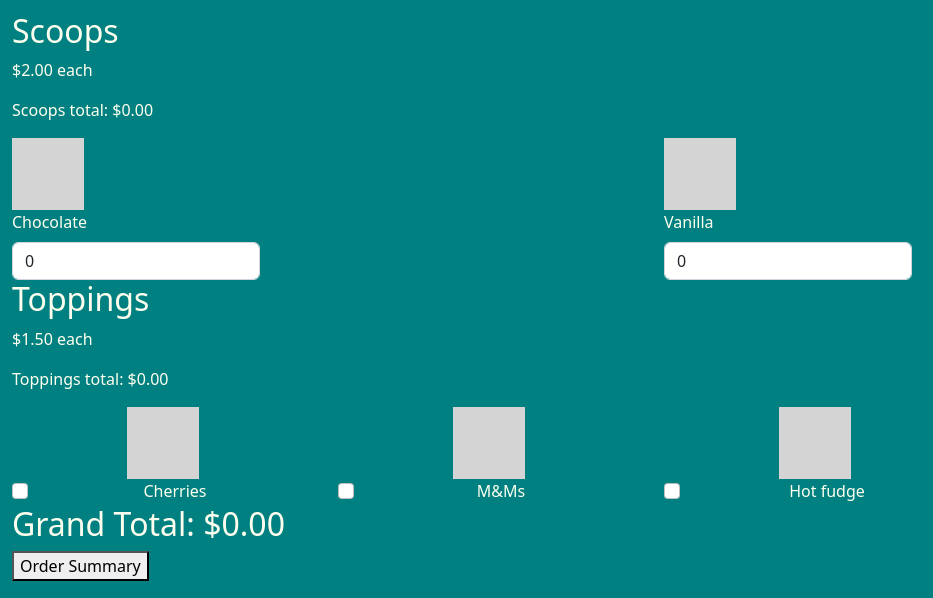
Test: grand total › grand total updates properly if topping is added first
Step 1. Click the checkbox labelled "M&Ms" → (346, 491), box x1=338 y1=483 x2=354 y2=499
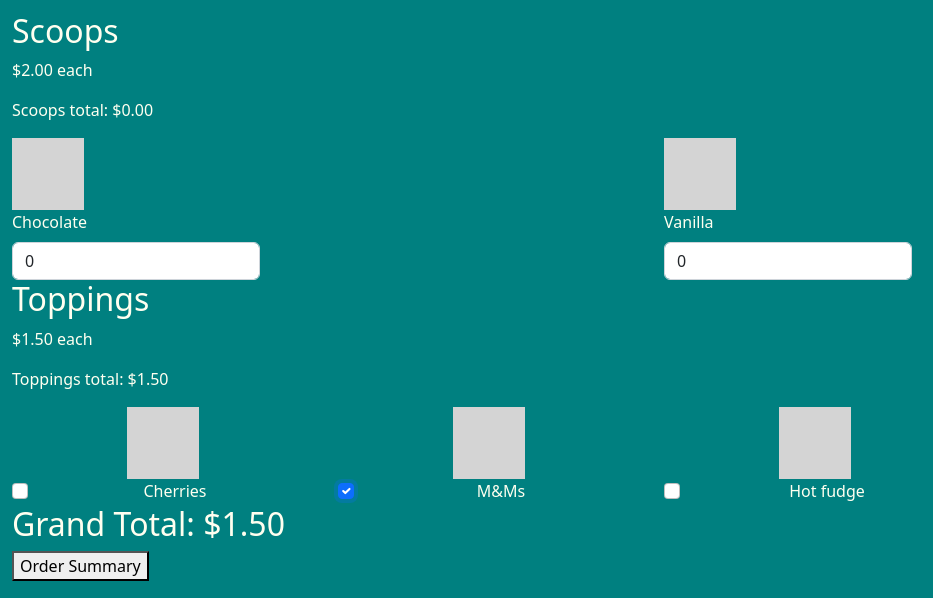
Result: the heading "Grand Total: $1.50" is shown at x1=12 y1=502 x2=285 y2=545
Step 2. Type "2" into the number field labelled "Vanilla" → (788, 261), box x1=664 y1=242 x2=912 y2=280
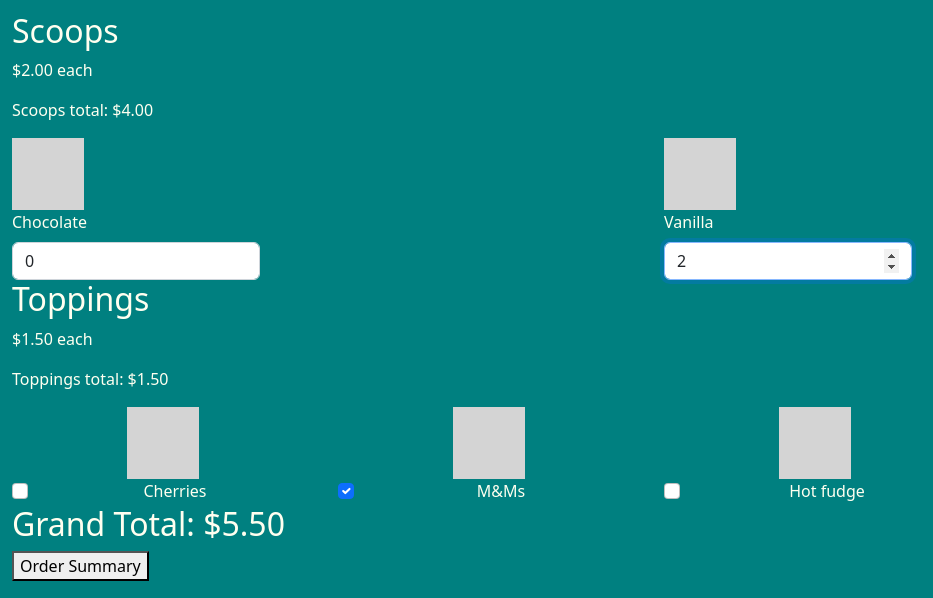
Result: the heading "Grand Total: $5.50" is shown at x1=12 y1=502 x2=285 y2=545
